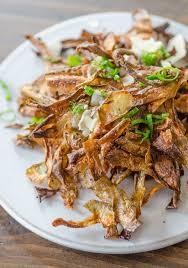Organic: (2, 5, 188, 237)
